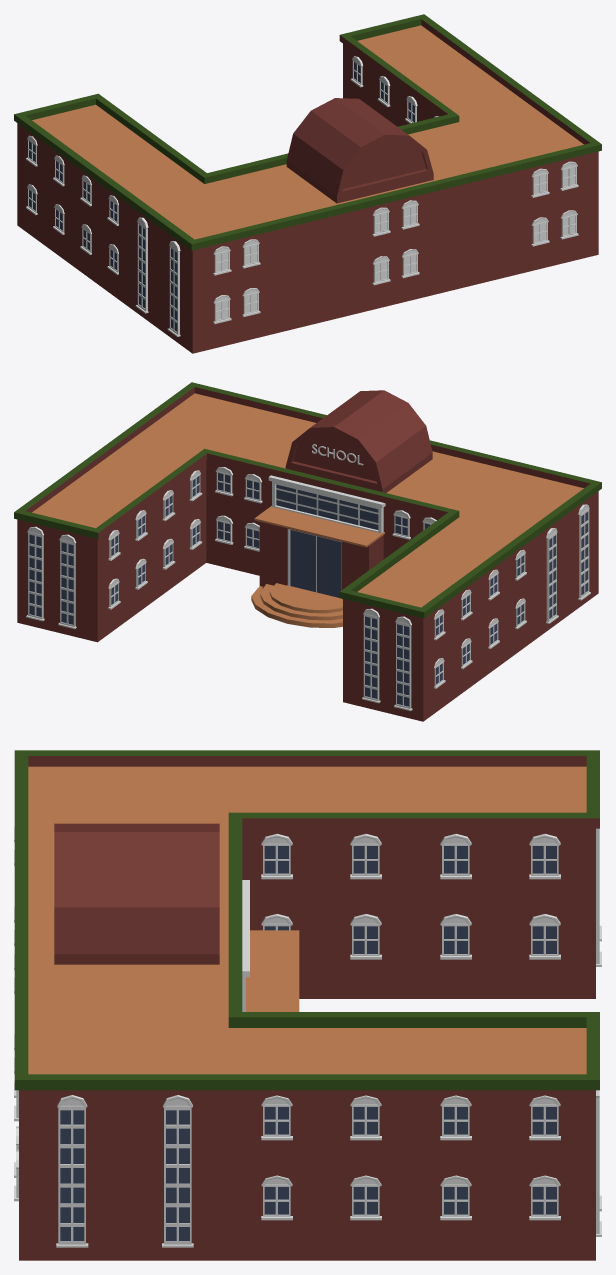
File: school.fbx
The picture shows the model from 3 angles, top to bottom: view 1: azimuth 30°, elevation 25°; view 2: azimuth 150°, elevation 25°; view 3: azimuth 270°, elevation 25°; orthographic projection. The views are drawn at different scales.
Parts seen in each view (by area): view 1: school; view 2: school; view 3: school.
Boxes of the visible parts, <box> form: school: <box>14,14,601,353</box>; school: <box>14,382,601,721</box>; school: <box>14,750,601,1260</box>.
Size of the model in its own units: 2278 by 862 by 1707.
